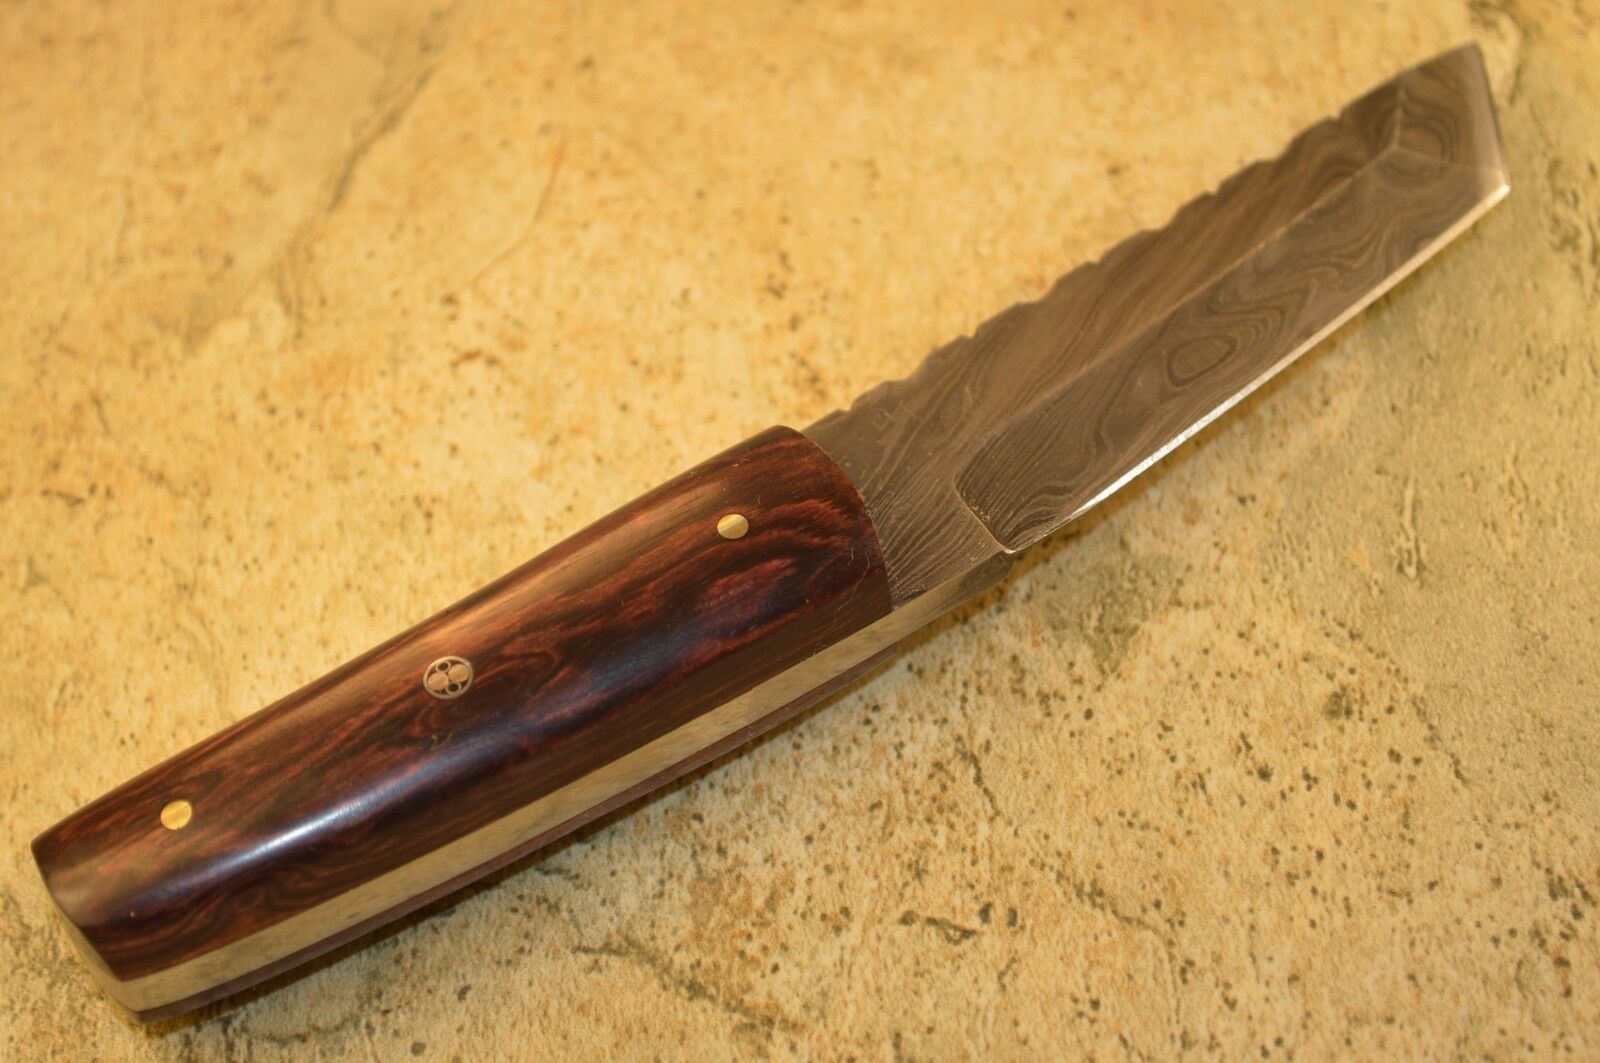knief: (69, 47, 1498, 1056)
